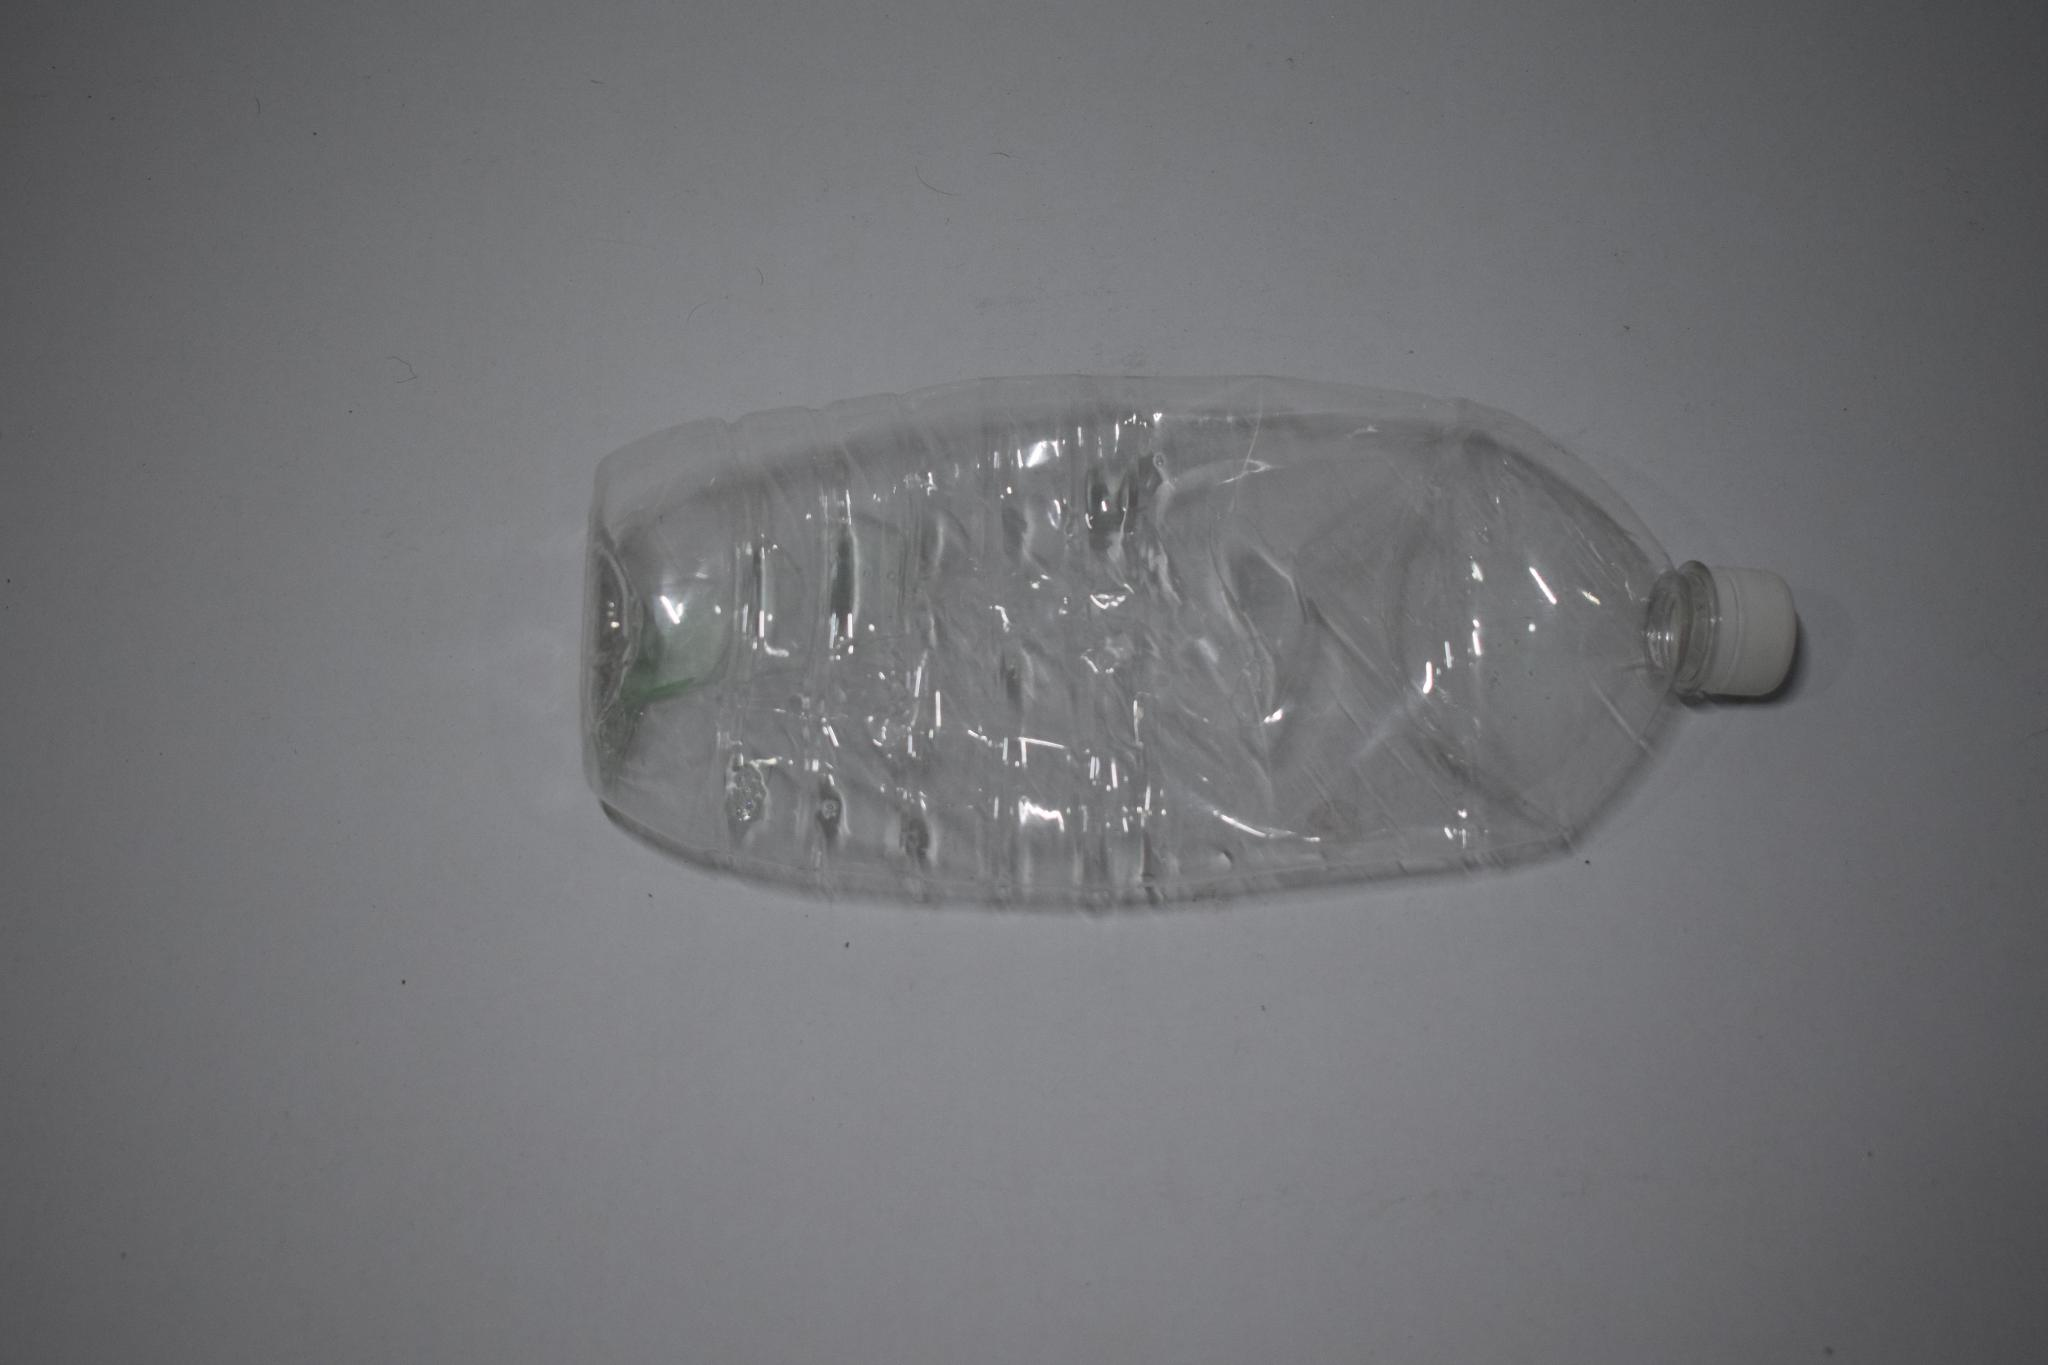bottle: (592, 396, 1885, 931)
